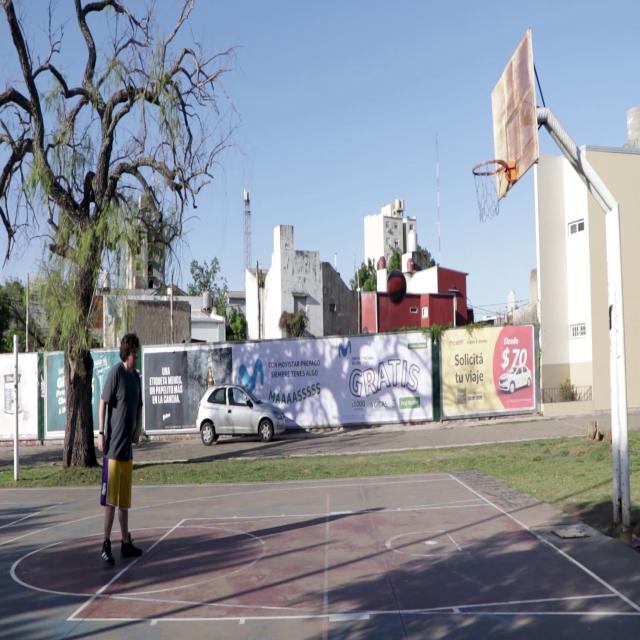ball: (386, 268, 407, 304)
